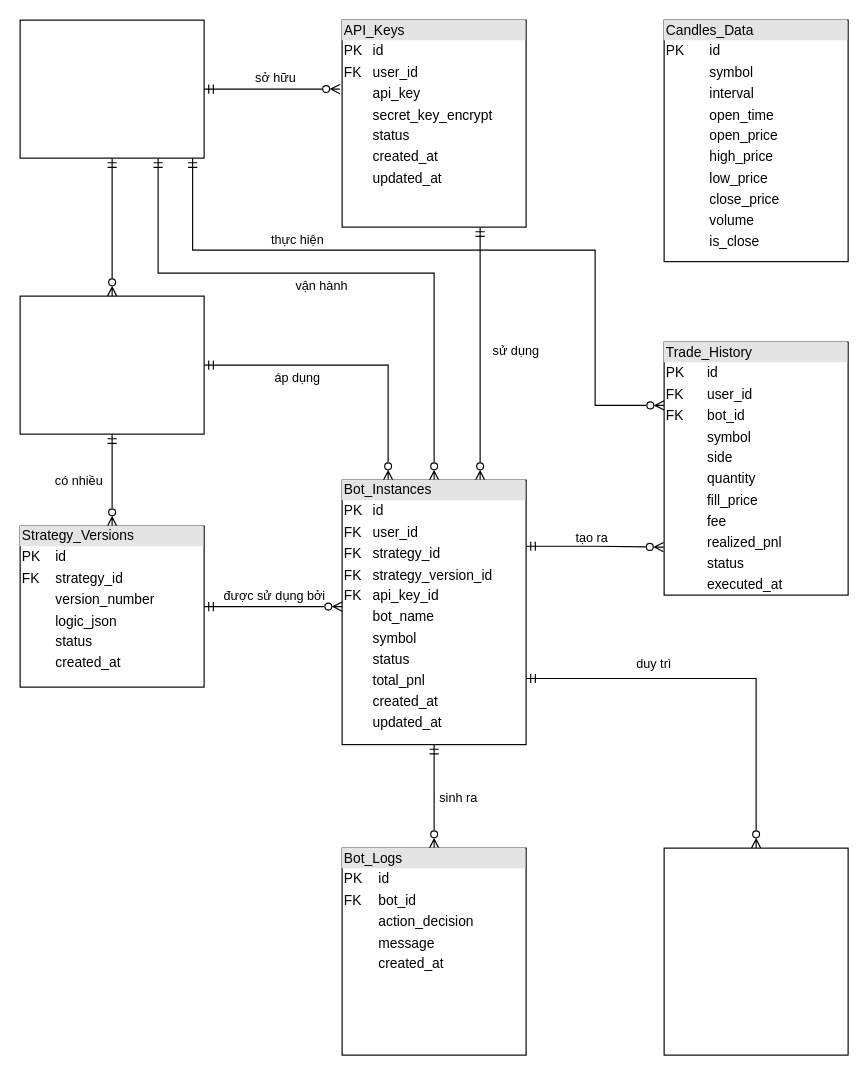
The diagram is 868 pixels wide and 1075 high, and some of its shapes have lost their labels. The shapes that lost their labels are listed below. From the top down, each one's centre as x and y in pixels, then its label:
At point 111,88: "Users PK id username password_hash created_at updated_at".
At point 111,364: "Strategies PK id name status created_at updated_at".
At point 755,951: "Bot_Lifecycle_variables PK id FK bot_id variable_name variable_value updated_at".
